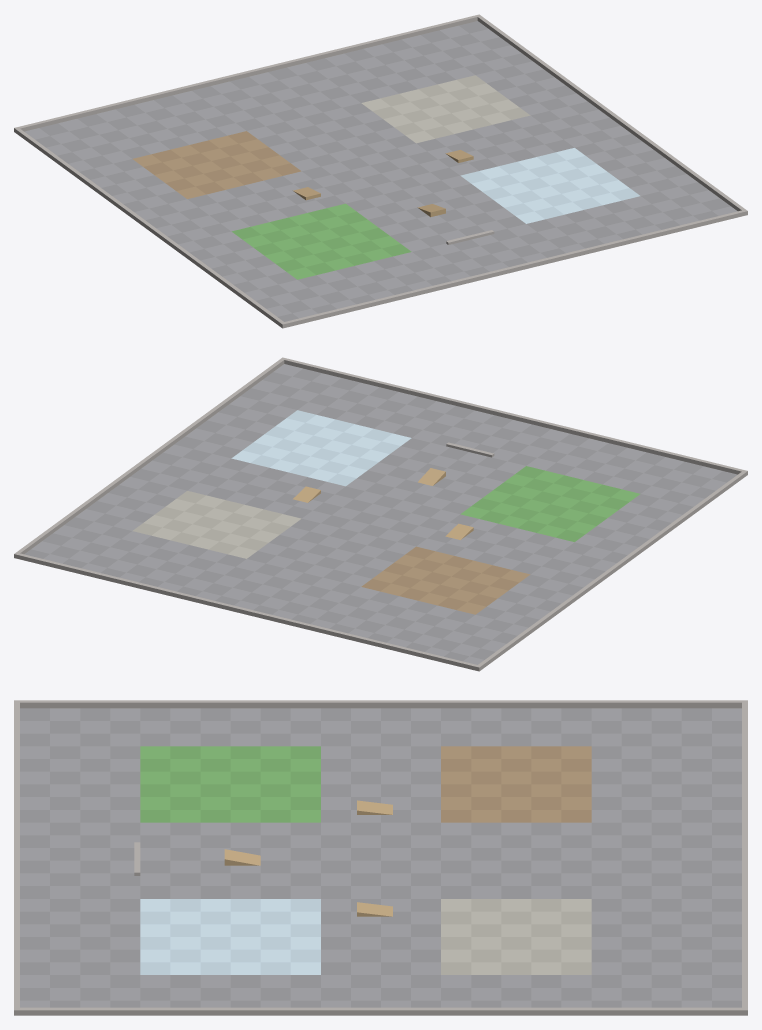
3 views of the same model, one above another, from view 1: azimuth 30°, elevation 25°; view 2: azimuth 150°, elevation 25°; view 3: azimuth 270°, elevation 25° (orthographic). The views are drawn at different scales.
Visible parts, largest first — view 1: Ground; view 2: Ground; view 3: Ground.
Part boxes in pixels (x1,y1,x2,y2): Ground: (14,14,747,328); Ground: (14,357,747,671); Ground: (14,700,747,1015).
Size of what is drawn, in the model's own units: 122 by 1.2 by 122.
